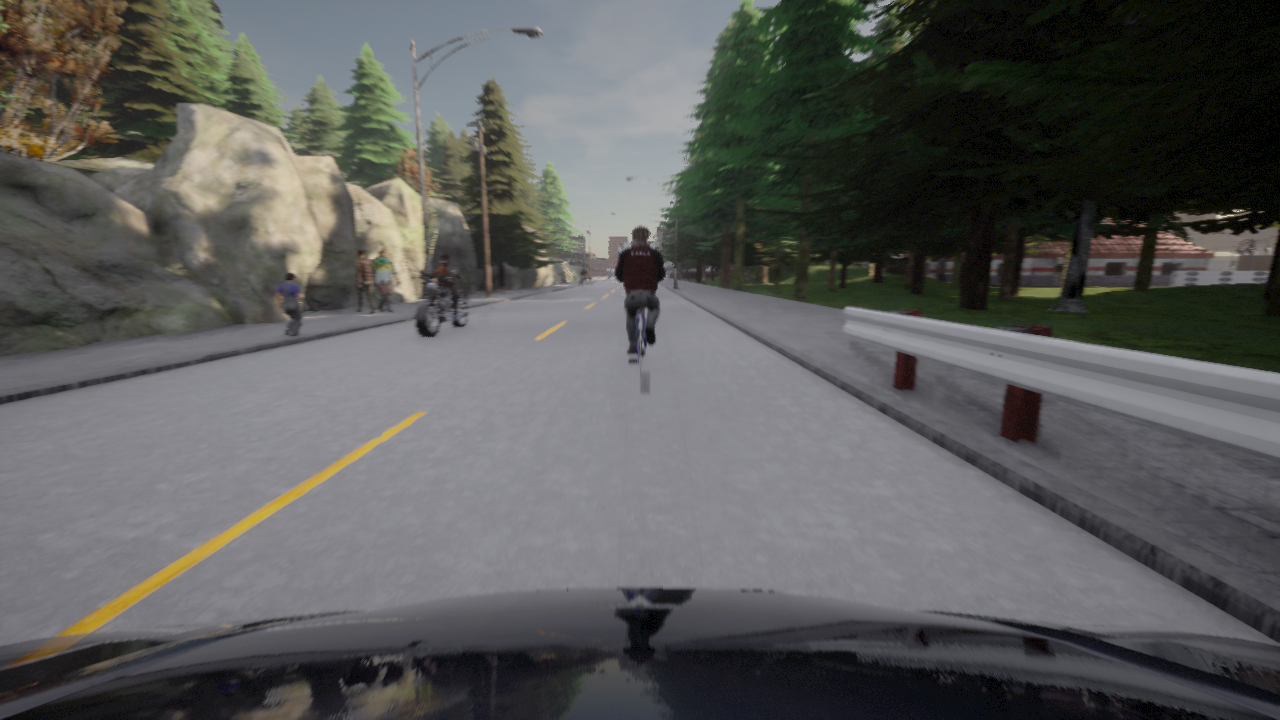cyclist: (0, 588, 1279, 719), (415, 270, 469, 337), (629, 308, 645, 377), (583, 275, 585, 289), (665, 273, 668, 274)
pedestrian: (276, 272, 307, 336), (373, 249, 399, 312), (355, 248, 376, 313)
